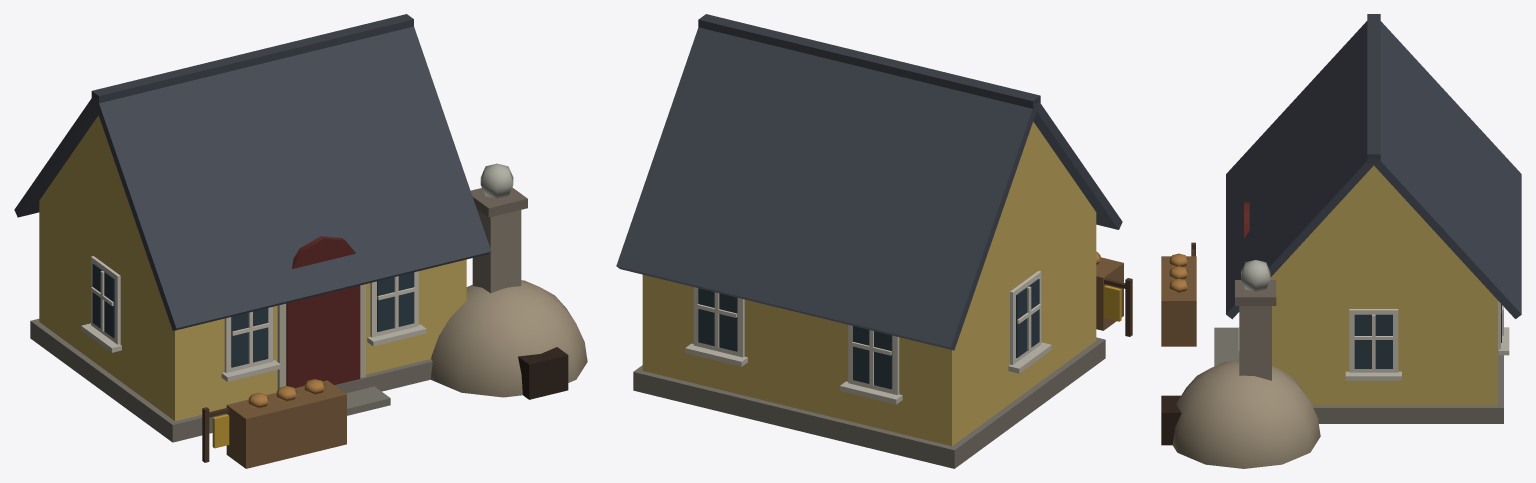
The model's file is procedural_bakery@4.glb.
3 views of the same model, side by side, from view 1: azimuth 30°, elevation 25°; view 2: azimuth 150°, elevation 25°; view 3: azimuth 270°, elevation 25° (orthographic). The views are drawn at different scales.
Parts seen in each view (by area): view 1: part_0, part_4; view 2: part_0; view 3: part_0, part_4.
Part boxes in pixels (left/top/right/bottom): part_0: left=14, top=14, right=587, bottom=468; part_4: left=480, top=163, right=513, bottom=198; part_0: left=616, top=14, right=1132, bottom=468; part_0: left=1161, top=14, right=1521, bottom=468; part_4: left=1241, top=260, right=1270, bottom=291.
Bounding box in the file's own units: 7.31 × 5.09 × 6.1.
